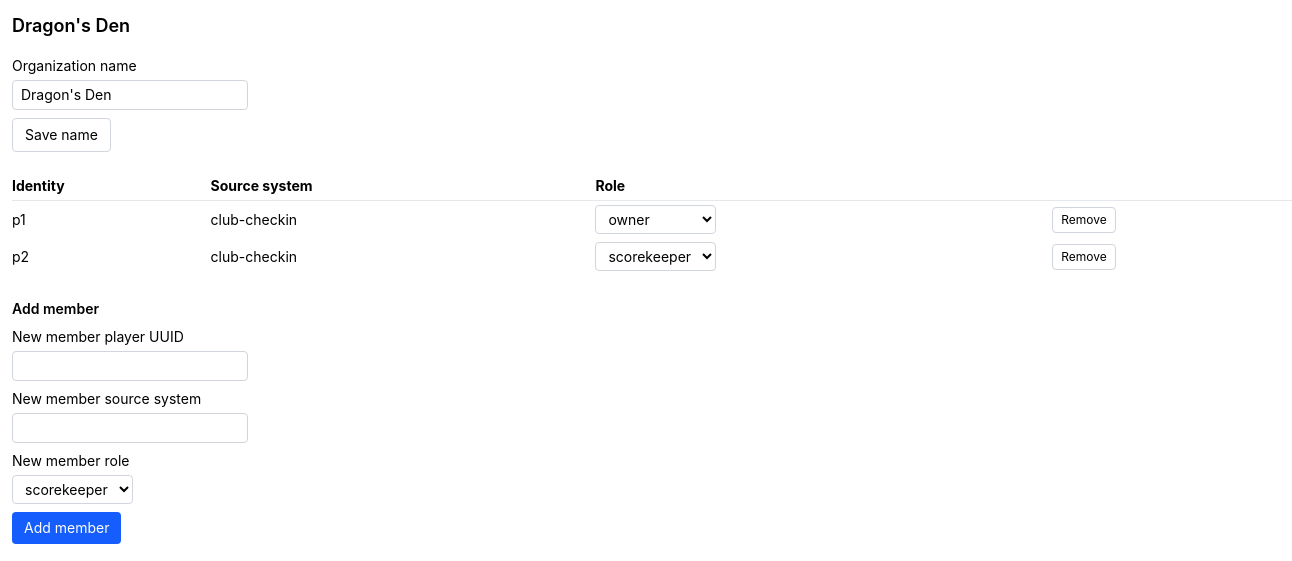
Scenario: OrganizationDetail › removes a member
Check: the text "p2" is shown, box [12,238,211,275]
What coordinates should you click on to do the following:
click the button "Remove" in the row of "p2"
I would click on:
 (1084, 256)
Its box is [1052,244,1116,270].
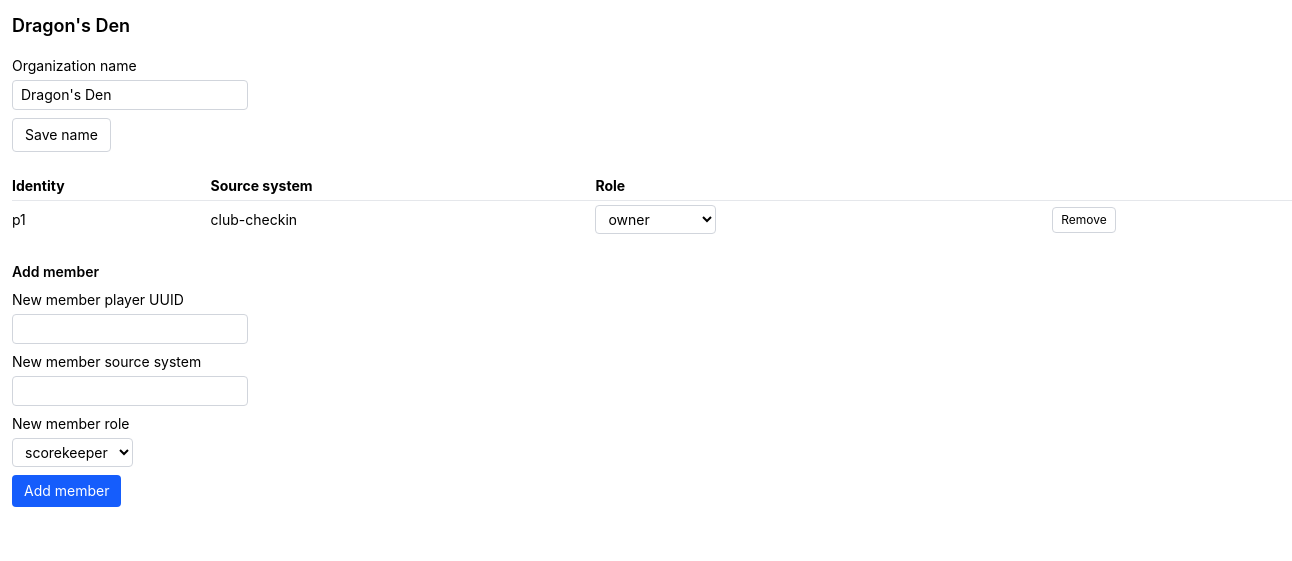
Check: the heading "Dragon's Den" is shown, box [12,15,130,36]
Check: the text "p2" is gone
